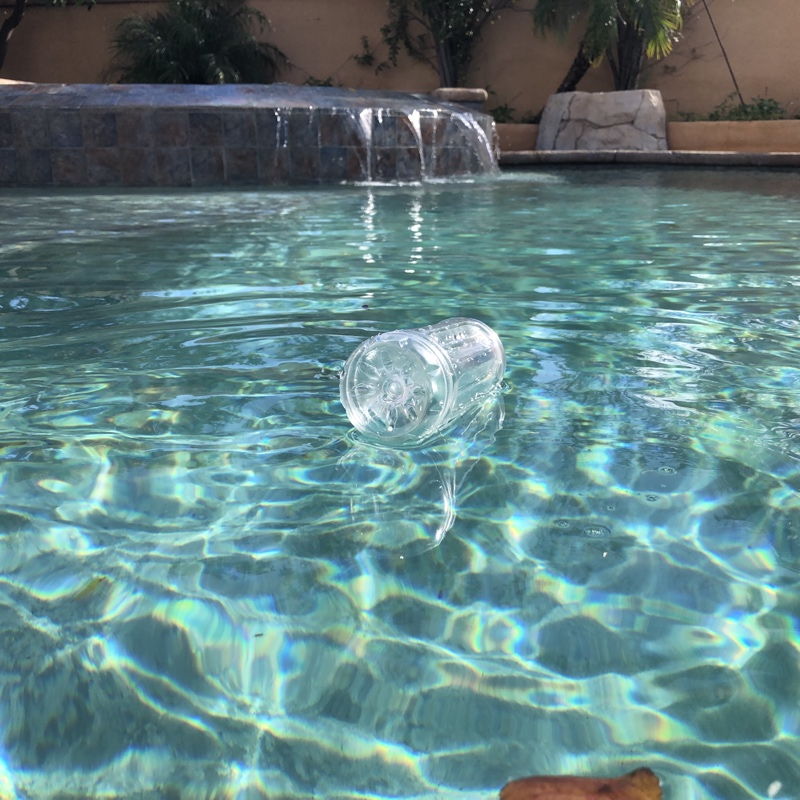Plastic Bottle: (337, 312, 508, 447)
